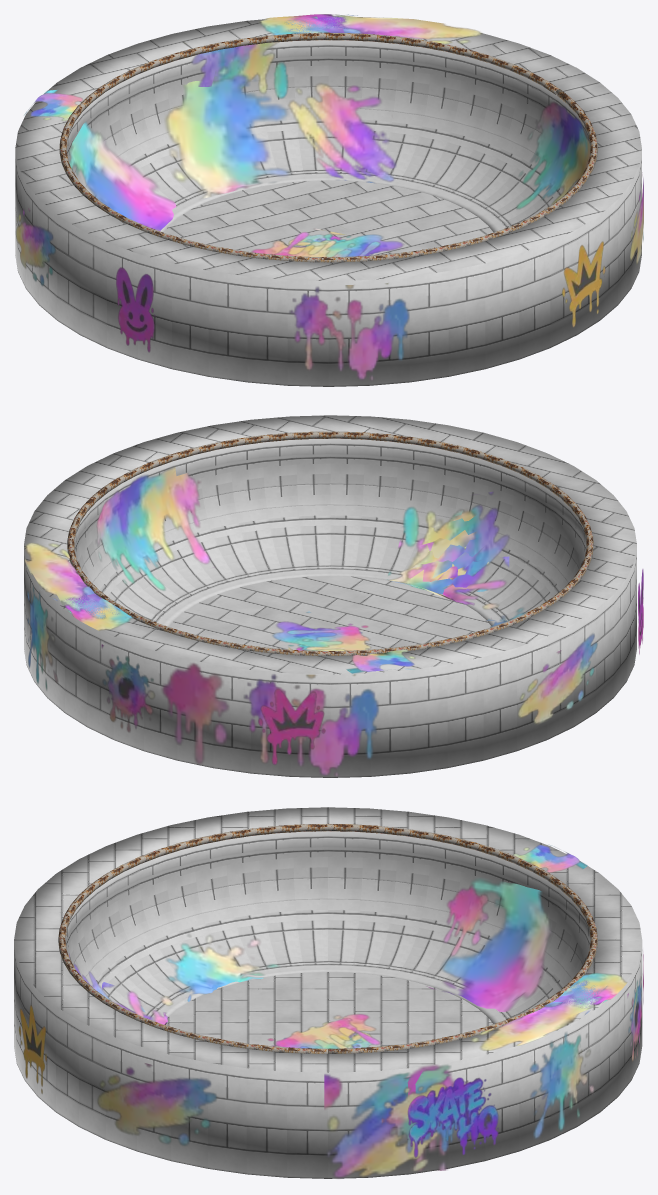
File: Bowl.glb
3 renders of one model, top to bottom at view 1: azimuth 30°, elevation 25°; view 2: azimuth 150°, elevation 25°; view 3: azimuth 270°, elevation 25°, orthographic. The views are drawn at different scales.
Visible parts, largest first — view 1: Bowl_Floor, Bowl_Paint, Bowl_Coping, Bowl_Gfx0; view 2: Bowl_Floor, Bowl_Paint, Bowl_Coping, Bowl_Gfx0; view 3: Bowl_Floor, Bowl_Paint, Bowl_Coping, Bowl_Gfx0.
Boxes of the visible parts, box(x1,y1,x2,y2) form: Bowl_Floor: box(15, 16, 641, 386); Bowl_Paint: box(16, 14, 643, 380); Bowl_Coping: box(59, 32, 597, 262); Bowl_Gfx0: box(116, 241, 605, 352); Bowl_Floor: box(24, 415, 636, 777); Bowl_Paint: box(24, 466, 597, 776); Bowl_Coping: box(67, 431, 593, 655); Bowl_Gfx0: box(258, 569, 643, 764); Bowl_Floor: box(14, 807, 642, 1178); Bowl_Paint: box(69, 844, 643, 1178); Bowl_Coping: box(58, 823, 597, 1053); Bowl_Gfx0: box(19, 1005, 498, 1157).
Size of the model in its own units: 11.87 by 2.31 by 11.83.
Materials: 5 (4 with a texture image).
